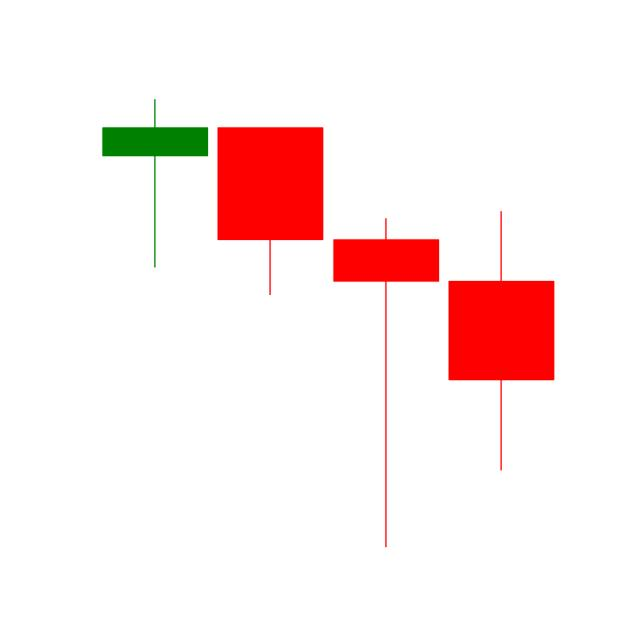Hammer: (86, 94, 215, 277)
Hanging Man: (328, 214, 444, 551), (216, 123, 327, 299)
spinning top: (446, 210, 563, 478), (214, 123, 218, 127)
